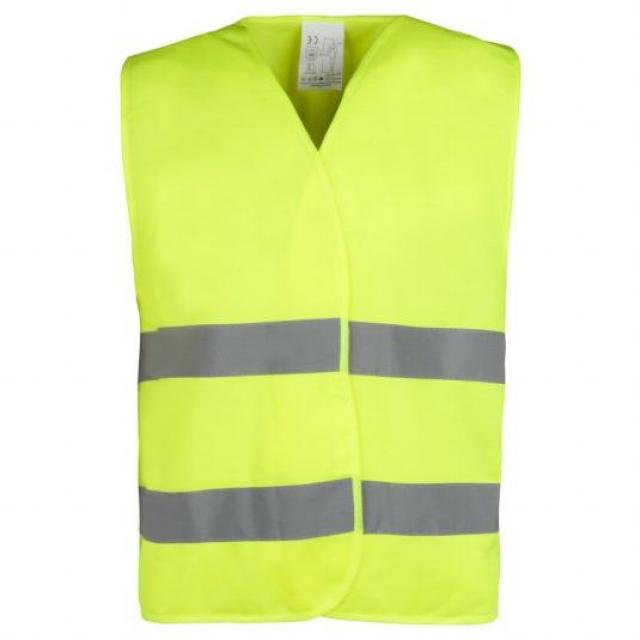Reflective-Jacket: (55, 0, 571, 640)
